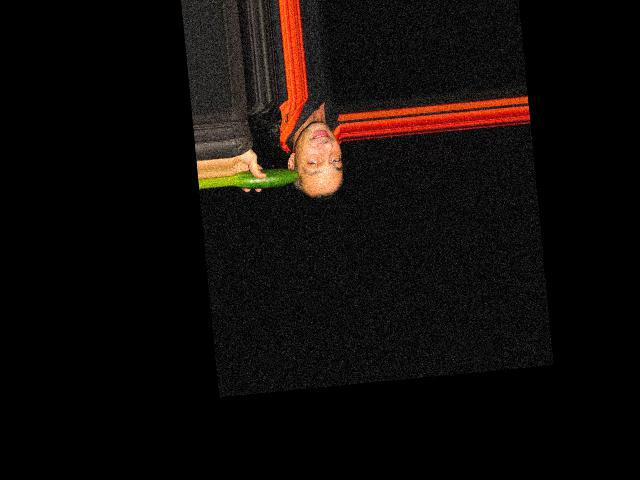cucumber: (233, 166, 300, 191)
